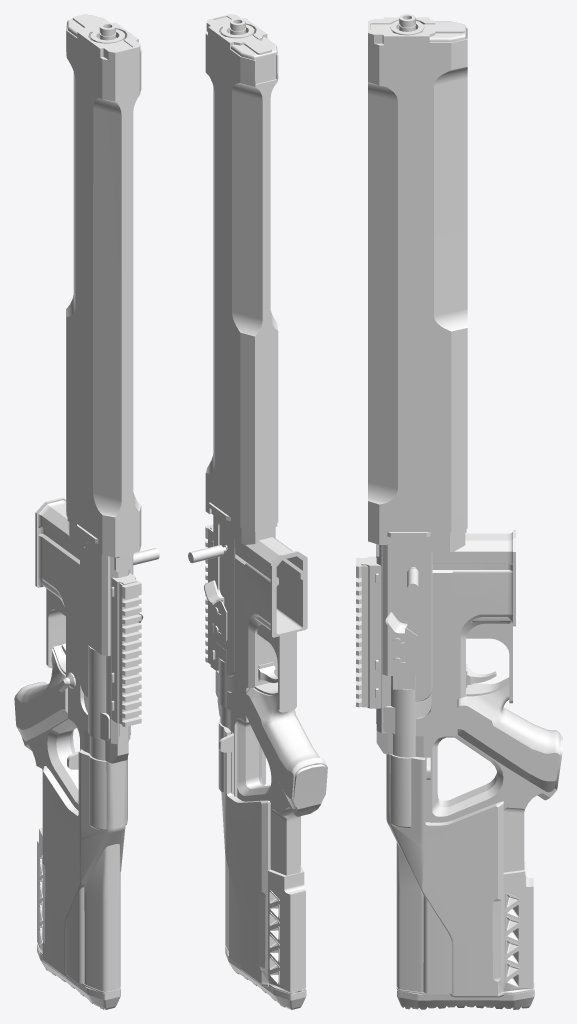
3 views of the same model, side by side, from view 1: azimuth 30°, elevation 25°; view 2: azimuth 210°, elevation 25°; view 3: azimuth 270°, elevation 25° (orthographic). The views are drawn at different scales.
Visible parts, largest first — view 1: _0x2df1cfb9ed77e06c; view 2: _0x2df1cfb9ed77e06c; view 3: _0x2df1cfb9ed77e06c.
Part boxes in pixels (<box>): _0x2df1cfb9ed77e06c: <box>14,14,159,1009</box>; _0x2df1cfb9ed77e06c: <box>188,14,327,1009</box>; _0x2df1cfb9ed77e06c: <box>356,14,562,1009</box>.
Size of the model in its own units: 9.91 by 115 by 21.8.
